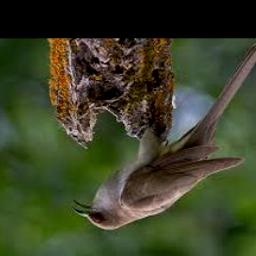Cuckoo: (71, 41, 256, 230)
